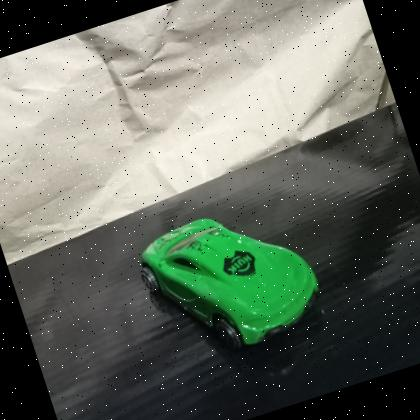Car: (141, 218, 319, 351)
